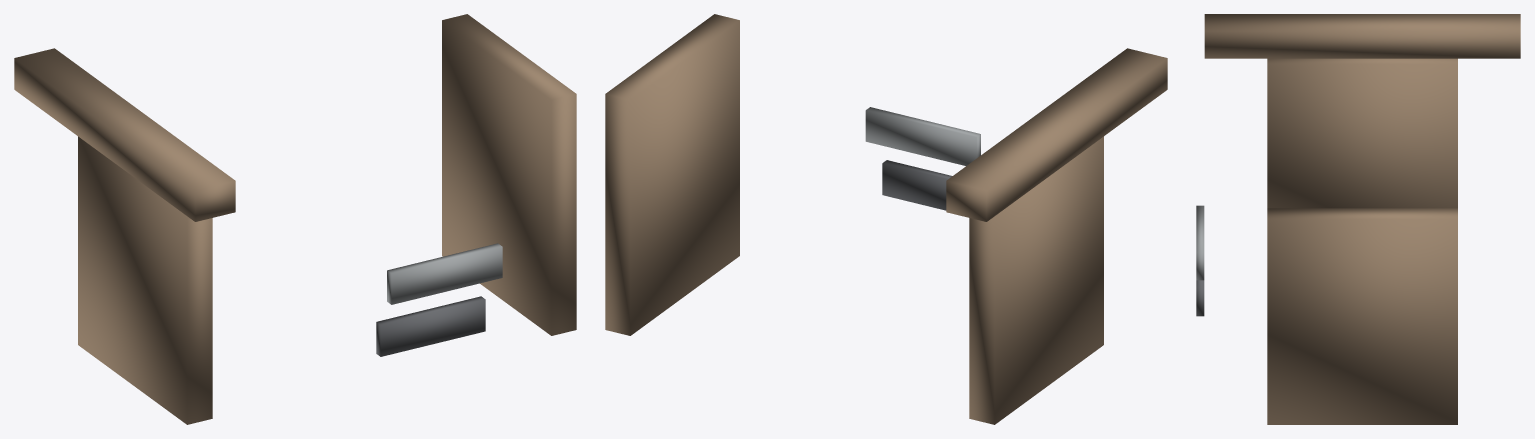
File: luggage_rack__weathered.glb
The picture shows the model from 3 angles, left to right: view 1: azimuth 30°, elevation 25°; view 2: azimuth 150°, elevation 25°; view 3: azimuth 270°, elevation 25°; orthographic projection. The views are drawn at different scales.
Visible parts, largest first — view 1: world; view 2: world; view 3: world.
Part boxes in pixels (x1,y1,x2,y2): world: [14, 14, 576, 424]; world: [605, 14, 1167, 424]; world: [1196, 14, 1520, 424].
Size of the model in its own units: 0.825 by 0.5049 by 0.6364.
